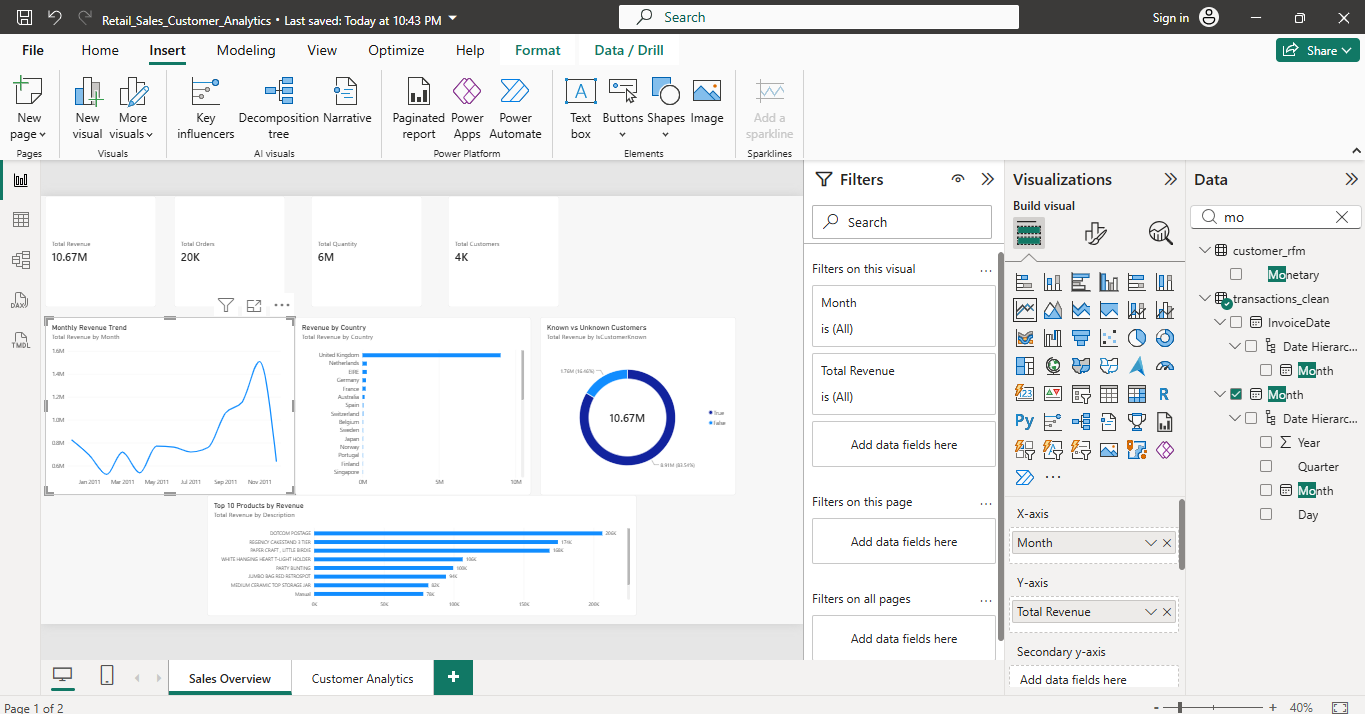

The page's visual inventory and layout, read from the dashboard file:
{"tool":"powerbi","page":{"name":"Sales Overview","canvas":[1920,1080],"ordinal":0},"visuals":[{"type":"cardVisual","fields":{"Data":["transactions_clean.Total Revenue"]},"box":[10,0,280,280],"z":0},{"type":"cardVisual","fields":{"Data":["transactions_clean.Total Orders"]},"box":[335.1,0,280,280],"z":1},{"type":"cardVisual","fields":{"Data":["transactions_clean.Total Quantity"]},"box":[680.3,0,280,280],"z":2},{"type":"cardVisual","fields":{"Data":["transactions_clean.Total Customers"]},"box":[1025.5,0,280,280],"z":3},{"type":"lineChart","title":"Monthly Revenue Trend","fields":{"Category":["transactions_clean.Month"],"Y":["transactions_clean.Total Revenue"]},"box":[10.1,304.9,629.9,448.5],"z":4},{"type":"clusteredBarChart","title":"Revenue by Country","fields":{"Category":["transactions_clean.Country"],"Y":["transactions_clean.Total Revenue"]},"box":[640,304.9,594.6,448.5],"z":5},{"type":"donutChart","title":"Known vs Unknown Customers","fields":{"Category":["transactions_clean.IsCustomerKnown"],"Y":["transactions_clean.Total Revenue"]},"box":[1257.3,304.9,493.9,448.5],"z":6},{"type":"clusteredBarChart","title":"Top 10 Products by Revenue","fields":{"Category":["transactions_clean.Description"],"Y":["transactions_clean.Total Revenue"]},"box":[418.3,753.4,1083.5,304.9],"z":7}]}

Visuals, with their boxes on the page's 1920x1080 design canvas (x1, y1, x2, y2). These are canvas units, not pixel positions in the 1365x714 screenshot, which may show the page scaled, cropped or inside an application window:
cardVisual - transactions_clean.Total Revenue: [10,0,290,280]
cardVisual - transactions_clean.Total Orders: [335,0,615,280]
cardVisual - transactions_clean.Total Quantity: [680,0,960,280]
cardVisual - transactions_clean.Total Customers: [1026,0,1306,280]
"Monthly Revenue Trend" lineChart: [10,305,640,753]
"Revenue by Country" clusteredBarChart: [640,305,1235,753]
"Known vs Unknown Customers" donutChart: [1257,305,1751,753]
"Top 10 Products by Revenue" clusteredBarChart: [418,753,1502,1058]
